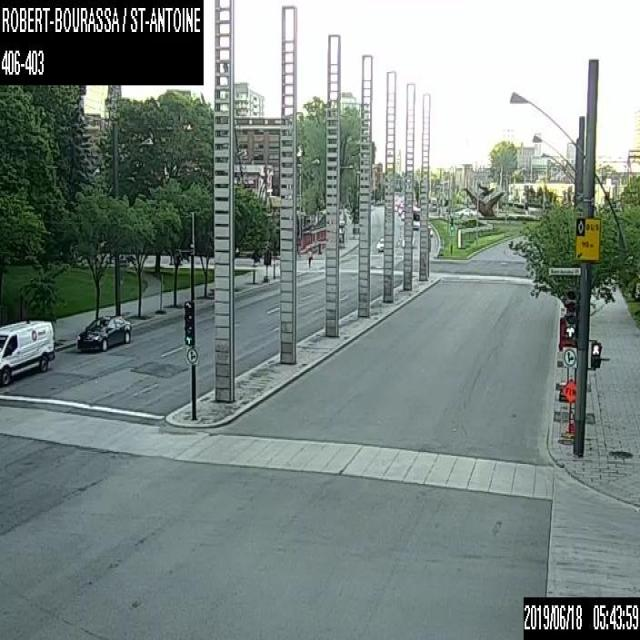bus: (412, 206, 420, 228)
construction: (559, 380, 575, 443)
pedestrian: (306, 245, 312, 268)
vehicle: (0, 318, 55, 386), (75, 312, 130, 351), (401, 235, 414, 248), (376, 237, 384, 251), (427, 224, 432, 237), (397, 204, 404, 213), (400, 210, 404, 219)
